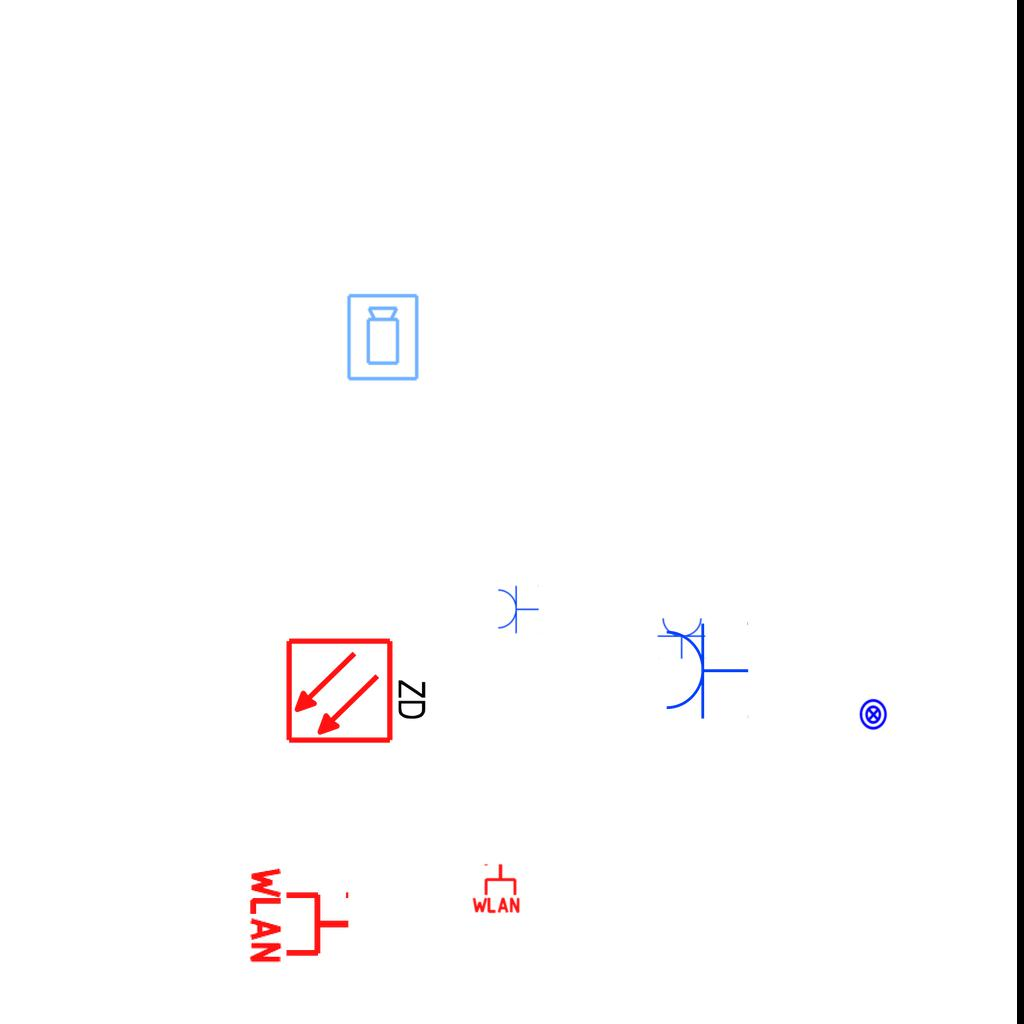KFO_Kamera_mit_Festobjektiv: (345, 292, 422, 383)
Schukosteckdose_einfach: (662, 620, 749, 720), (657, 616, 707, 659), (496, 584, 539, 634)
Taster_beleuchtet: (857, 698, 890, 731)
WLAN: (248, 863, 353, 967), (470, 862, 522, 914)
ZD_Melder_in_Zwischendecke_mit_Revisionsoeffnung_mind_40_x_40_cm: (284, 632, 433, 746)
